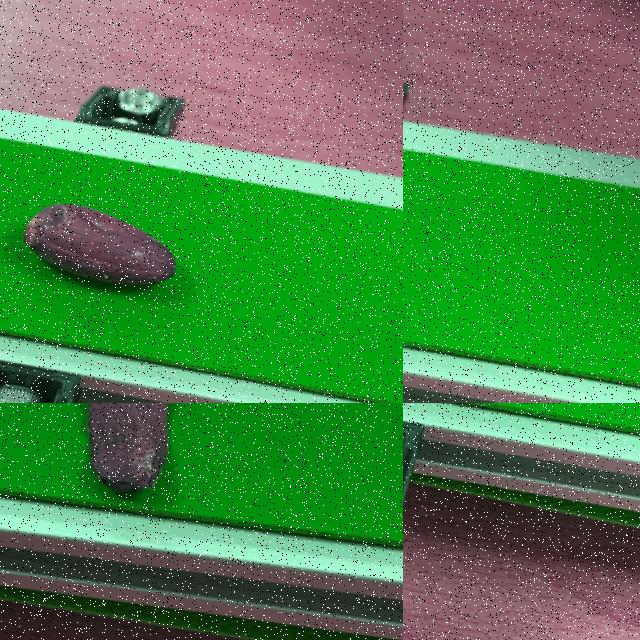Fine_cocoabeans: (0, 168, 226, 329)
Flat_cocoabeans: (0, 403, 254, 507)
